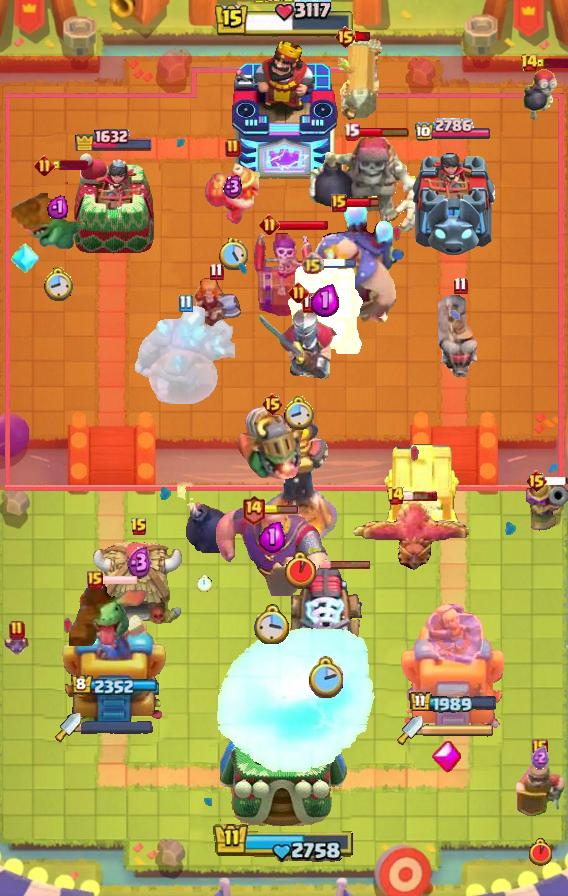baby-dragon: (174, 482, 234, 554)
bandit: (202, 161, 264, 227)
bar: (398, 595, 508, 731), (62, 601, 166, 731)
barbarian-barrel: (2, 634, 32, 658)
battle-healer: (338, 38, 384, 122)
bomb: (285, 262, 365, 356), (382, 441, 462, 535)
bomb-tower: (526, 478, 568, 546)
cannoneer-tower: (135, 304, 235, 404)
clock: (213, 821, 355, 862), (213, 0, 355, 40)
earthquake: (515, 749, 565, 817)
electro-dragon: (261, 422, 339, 550)
electro-giant: (304, 134, 422, 246)
electro-spirit: (311, 283, 339, 316), (258, 519, 285, 552), (128, 546, 153, 580), (48, 194, 69, 219), (223, 173, 243, 198), (531, 746, 549, 770)
electro-wizard: (11, 169, 103, 251), (69, 584, 151, 646)
elite-barbarian: (438, 294, 482, 380)
elixir: (307, 656, 343, 698), (254, 604, 290, 644), (282, 394, 314, 430), (285, 551, 315, 589), (43, 265, 74, 301), (220, 238, 248, 270), (528, 838, 551, 866), (197, 576, 211, 593)
emote: (357, 126, 410, 138), (277, 219, 329, 231), (320, 558, 372, 569), (322, 258, 359, 271), (344, 195, 380, 208), (102, 574, 139, 586), (402, 490, 438, 502), (52, 160, 88, 170), (263, 505, 299, 515), (536, 58, 568, 68), (544, 476, 567, 486), (355, 31, 373, 42)
golem: (286, 565, 364, 657)
hog-rider: (190, 277, 242, 331)
ice-golem: (522, 65, 560, 121)
king-tower: (220, 702, 348, 827), (230, 41, 338, 181)
king-tower-bar: (81, 720, 153, 734), (423, 723, 495, 737)
lightning: (213, 506, 331, 596)
little-prince: (294, 200, 406, 324)
mega-knight: (212, 627, 378, 777)
mother-witch: (351, 498, 469, 572)
night-witch: (237, 406, 307, 480)
pad_2: (11, 241, 39, 275)
prince: (92, 540, 186, 630)
queen-tower: (410, 144, 496, 255), (71, 152, 157, 256)
selected: (410, 691, 499, 715), (74, 126, 154, 151), (414, 117, 492, 142), (70, 675, 157, 697)
skeleton-king-bar: (253, 230, 315, 316)
skeleton-king-skill: (430, 740, 462, 774)
text: (241, 494, 266, 525), (335, 25, 358, 49), (301, 252, 324, 276), (260, 392, 283, 416), (525, 469, 548, 493), (34, 155, 55, 177), (259, 213, 280, 235), (288, 281, 309, 303), (386, 486, 406, 506), (521, 53, 540, 73), (130, 517, 148, 537), (343, 122, 360, 141), (225, 138, 241, 158), (9, 620, 25, 640), (331, 194, 347, 212), (87, 571, 103, 589), (532, 739, 548, 757), (209, 262, 224, 281), (453, 276, 467, 295), (179, 295, 193, 314)
wall-breaker-evolution: (256, 293, 340, 383)
